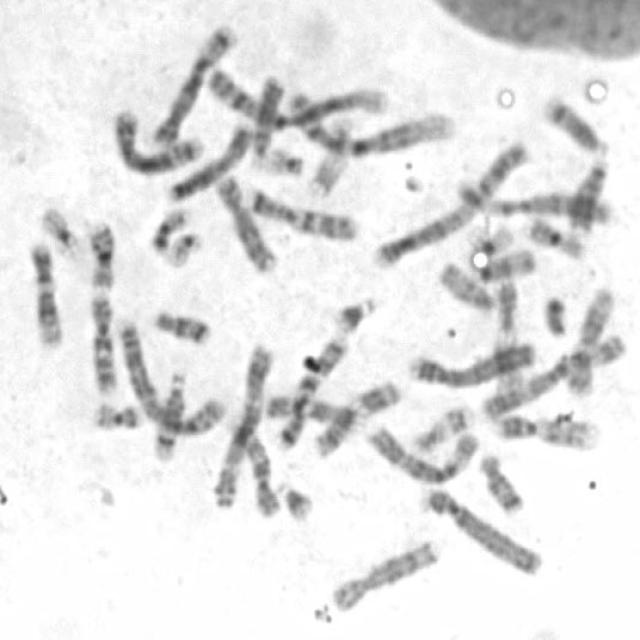A1: (280, 84, 458, 158), (202, 62, 389, 131)
A2: (364, 134, 532, 271), (111, 310, 228, 438)
A3: (475, 327, 628, 423), (206, 339, 276, 510)
B4: (414, 481, 547, 578), (402, 335, 540, 390)
B5: (147, 16, 241, 148), (106, 103, 207, 176)
C10: (224, 410, 283, 520), (84, 285, 120, 397)
C11: (308, 373, 405, 460), (490, 273, 526, 393)
C12: (562, 280, 618, 397), (23, 235, 66, 350)
C6: (452, 172, 618, 229), (363, 419, 484, 486)
C7: (270, 327, 351, 452), (241, 179, 361, 242)
C8: (326, 532, 443, 615), (212, 168, 282, 275)
C9: (488, 406, 604, 453), (260, 388, 367, 433)
D13: (246, 68, 288, 165), (564, 151, 612, 233)
D14: (538, 86, 612, 158), (147, 364, 190, 464)
D15: (435, 255, 499, 313), (467, 242, 538, 284)
E16: (519, 208, 589, 262), (82, 213, 120, 292)
E17: (303, 113, 356, 198), (406, 397, 475, 455)
E18: (474, 447, 528, 516), (147, 302, 214, 347)
F19: (34, 198, 84, 259), (461, 217, 516, 257)
F20: (144, 201, 192, 255), (86, 394, 146, 432)
G21: (328, 289, 381, 335), (274, 474, 316, 523)
G22: (158, 225, 206, 269), (258, 140, 306, 178)
X: (162, 117, 255, 204)
Y: (538, 289, 570, 339)
